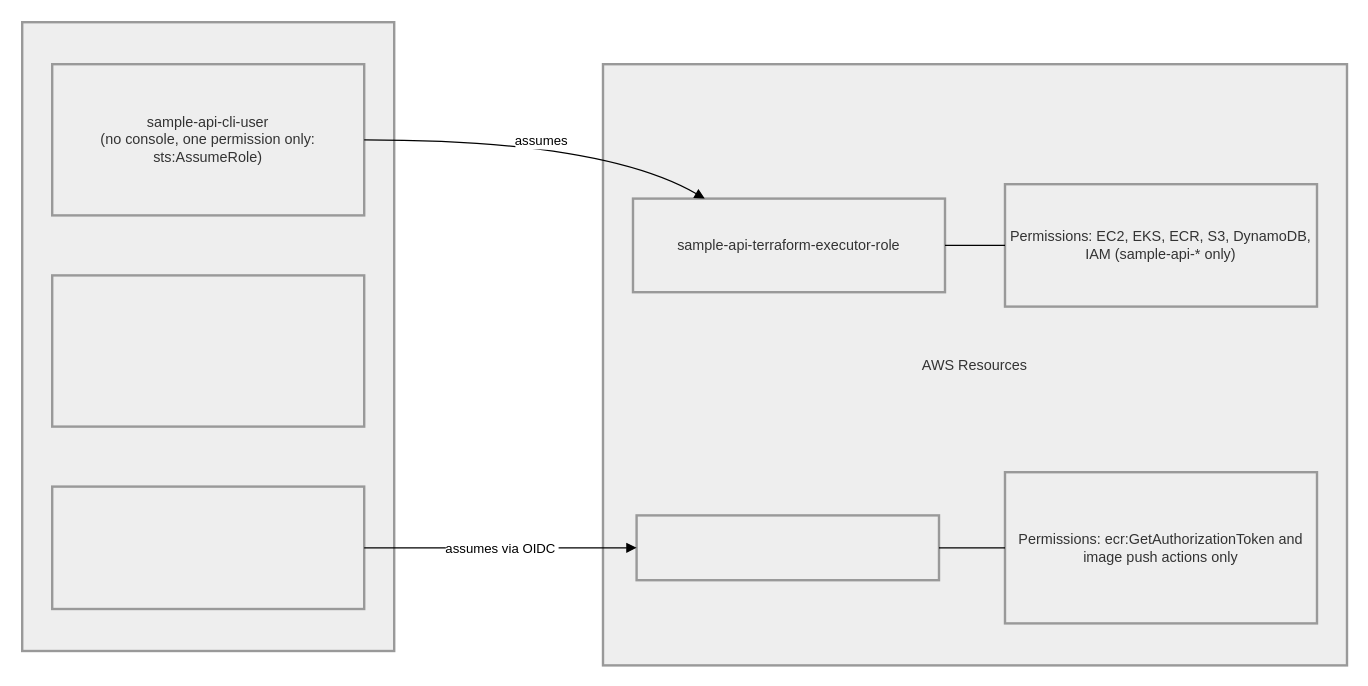
This 1368x686 diagram has some shape labels left out. The shapes that lost their labels are listed below. From the top down, each one's centre as x and y in pixels, then its label:
(207,350): vedant-admin (console only, MFA, AdministratorAccess, no access keys)
(207,547): GitHub Actions (OIDC) (federated identity, no IAM user)
(787,547): sample-api-github-ecr-role
